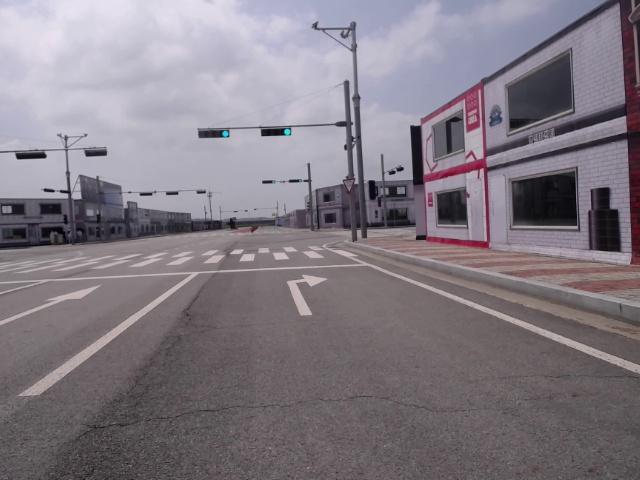straight_green_4: (197, 127, 230, 139), (259, 129, 291, 137), (261, 179, 275, 184), (288, 179, 302, 183)
